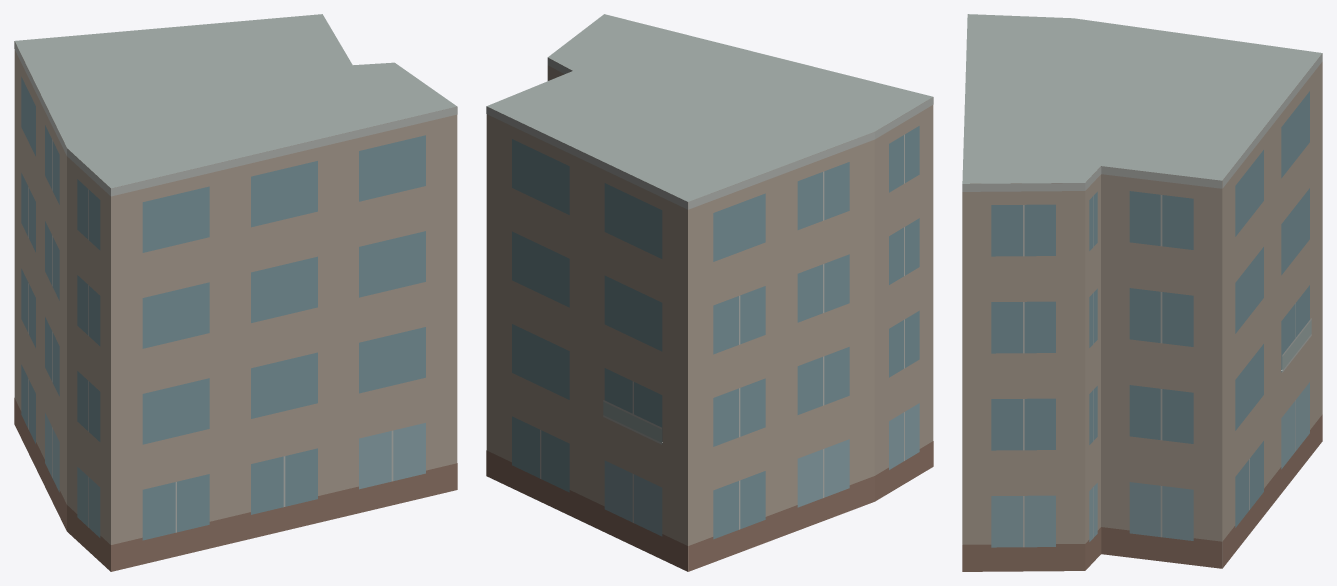
Rendered from survey-upis-32679831.glb.
The picture shows the model from 3 angles, left to right: view 1: azimuth 30°, elevation 25°; view 2: azimuth 150°, elevation 25°; view 3: azimuth 270°, elevation 25°; orthographic projection. The views are drawn at different scales.
Parts seen in each view (by area): view 1: survey-upis-32679831.tmp; view 2: survey-upis-32679831.tmp; view 3: survey-upis-32679831.tmp.
Part boxes in pixels (left/top/right/bottom): survey-upis-32679831.tmp: left=14, top=14, right=457, bottom=571; survey-upis-32679831.tmp: left=486, top=14, right=933, bottom=571; survey-upis-32679831.tmp: left=962, top=14, right=1322, bottom=571.
Size of the model in its own units: 10.95 by 11.65 by 9.81.
